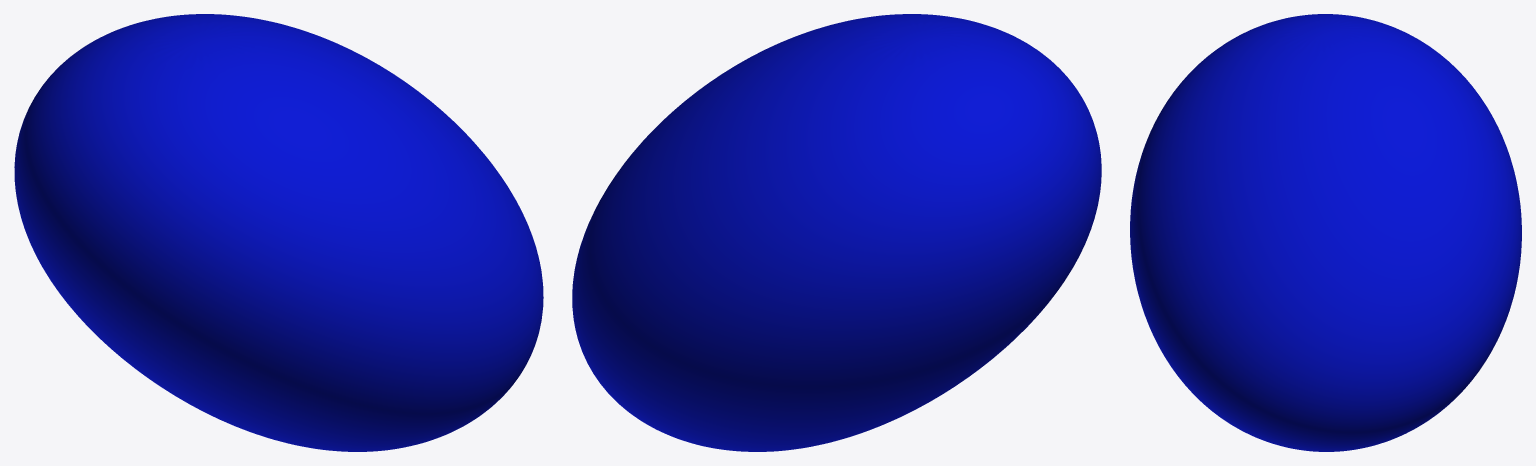
The model's file is Ball.fbx.
The picture shows the model from 3 angles, left to right: view 1: azimuth 30°, elevation 25°; view 2: azimuth 150°, elevation 25°; view 3: azimuth 270°, elevation 25°; orthographic projection. The views are drawn at different scales.
Parts seen in each view (by area): view 1: Sphere; view 2: Sphere; view 3: Sphere.
Boxes of the visible parts, box(x1,y1,x2,y2) form: Sphere: box(14, 14, 543, 451); Sphere: box(572, 14, 1101, 451); Sphere: box(1130, 14, 1521, 451).
Size of the model in its own units: 217 by 190 by 198.
